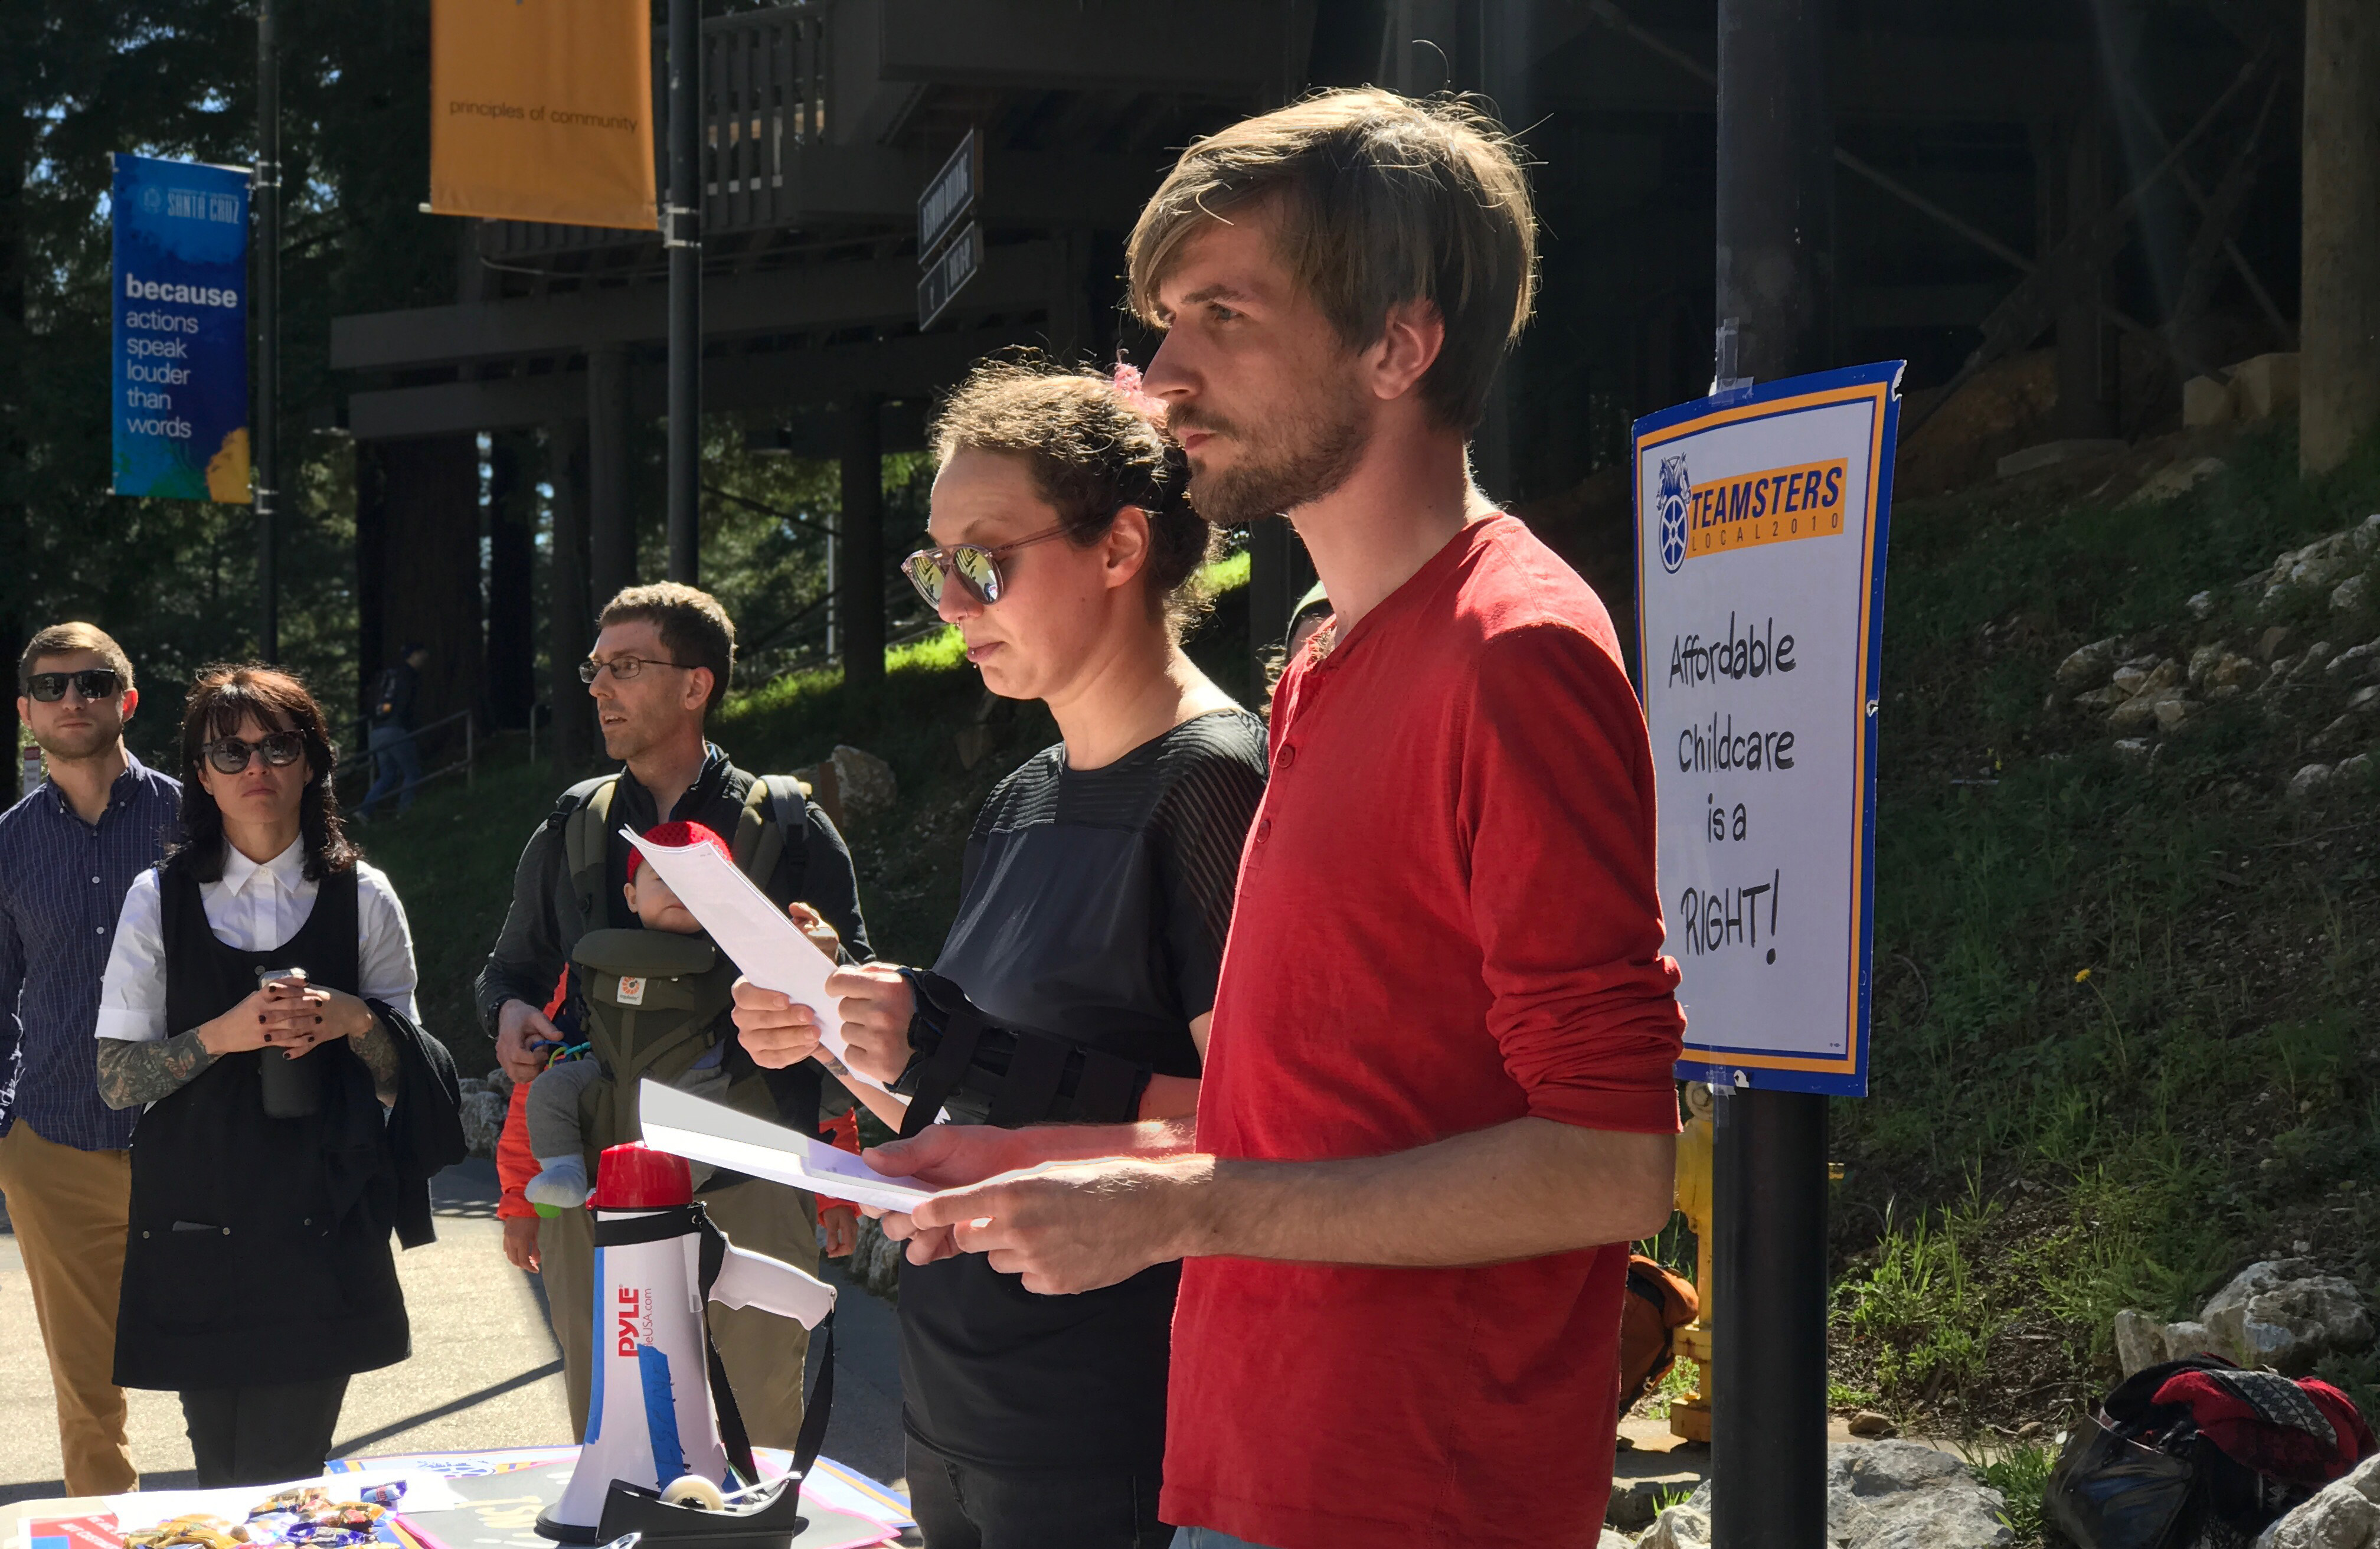Person: (872, 74, 1683, 1549), (730, 355, 1282, 1549), (475, 577, 875, 1463), (91, 665, 470, 1491), (1, 620, 182, 1498)
